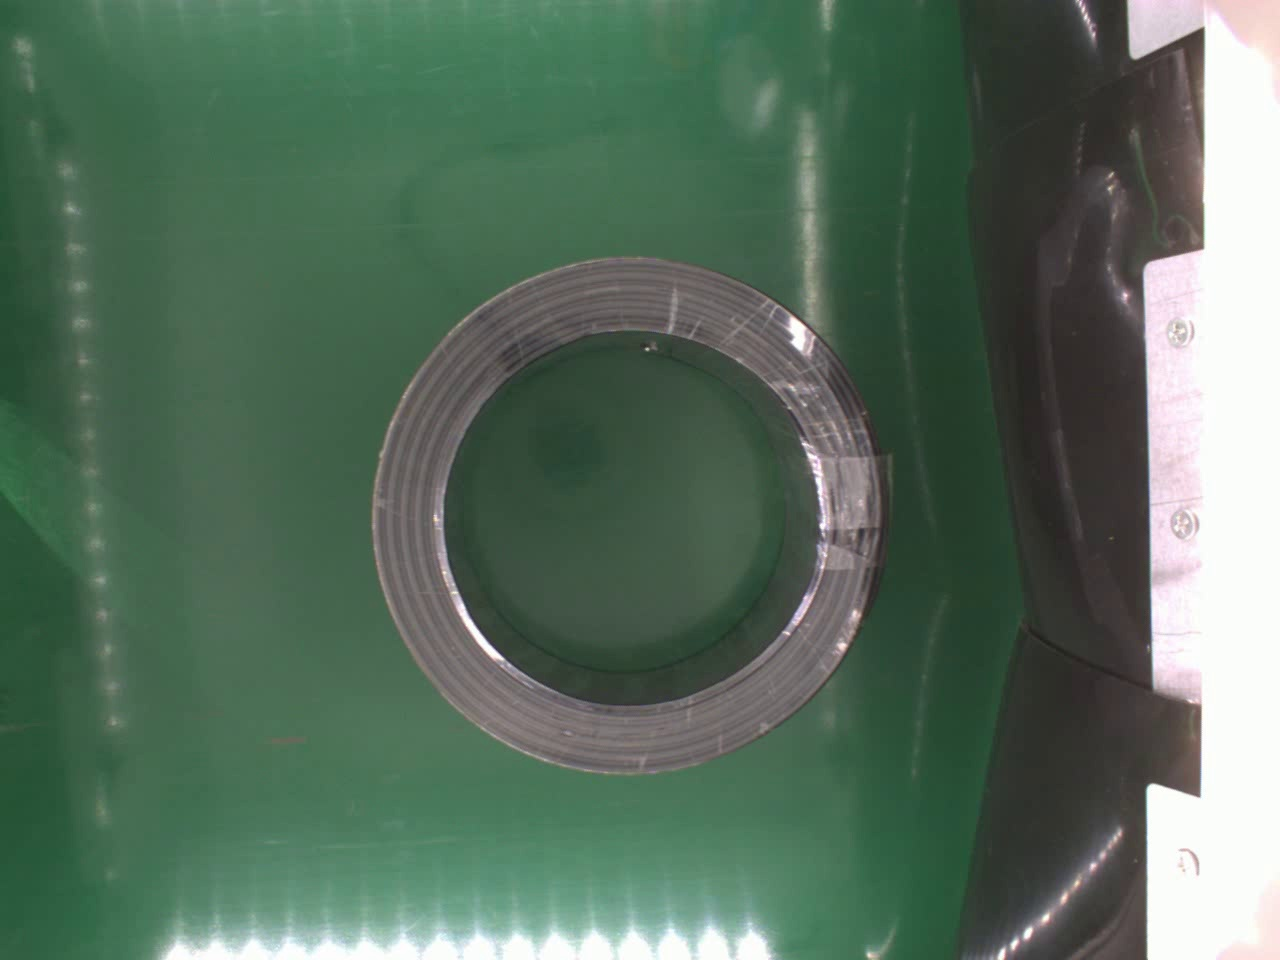black: (367, 249, 887, 781)
